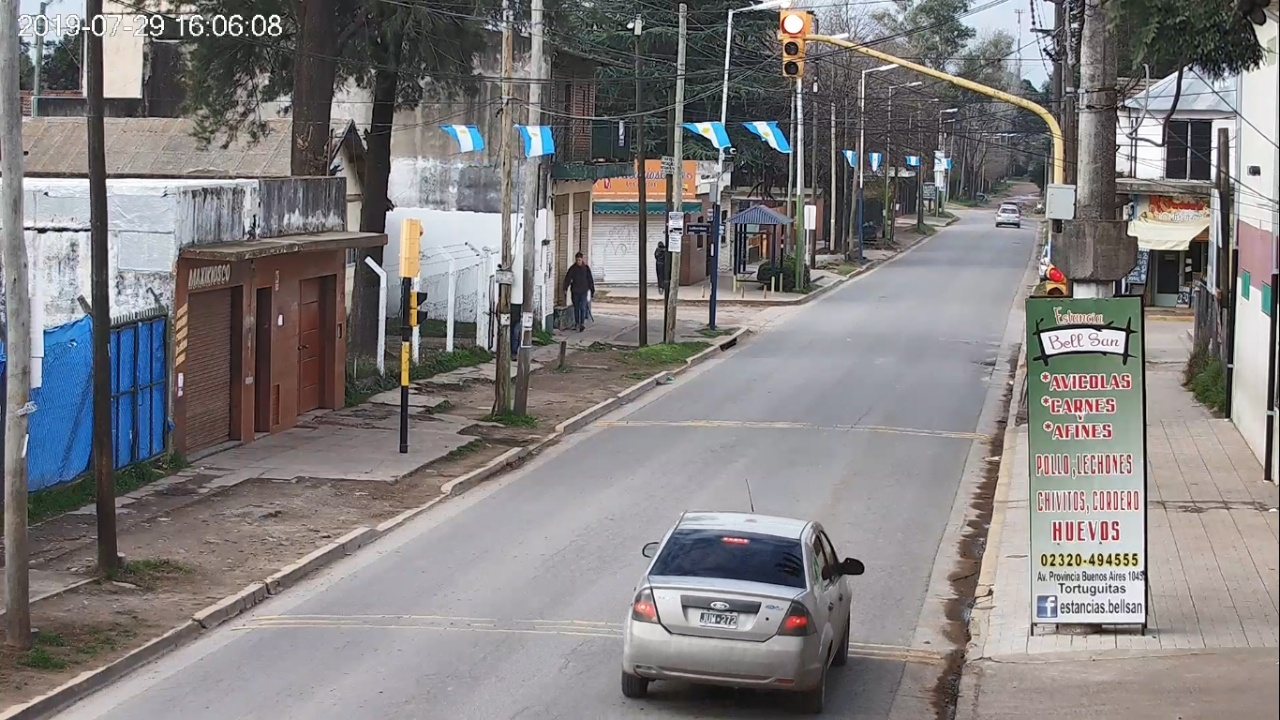car: (622, 511, 864, 715)
traffic light: (782, 10, 804, 77)
